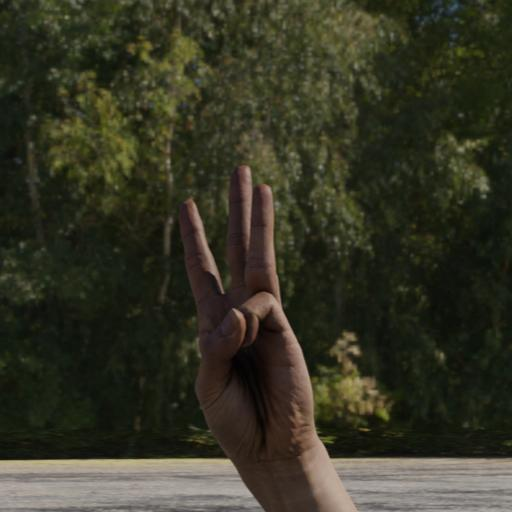W: (174, 160, 320, 469)
